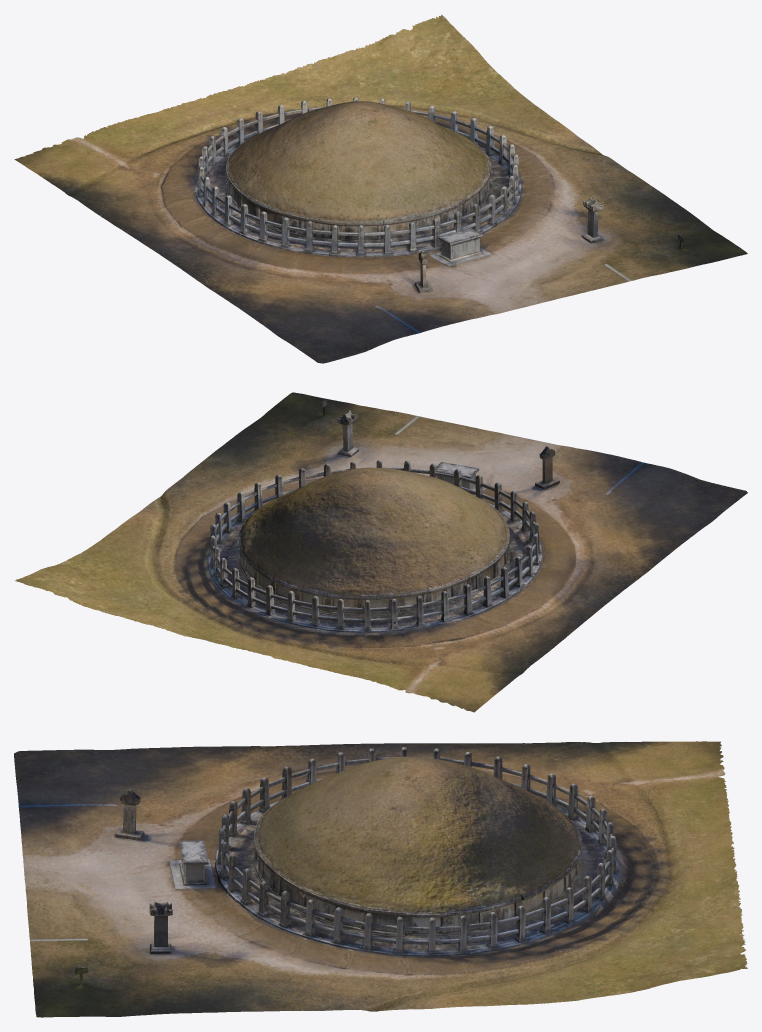
Rendered from kimyusin.glb.
3 renders of one model, top to bottom at view 1: azimuth 30°, elevation 25°; view 2: azimuth 150°, elevation 25°; view 3: azimuth 270°, elevation 25°, orthographic. The views are drawn at different scales.
Parts seen in each view (by area): view 1: Object_2, Object_3; view 2: Object_2, Object_3; view 3: Object_2, Object_3.
Part boxes in pixels (x1,y1,x2,y2): Object_2: (14,14,747,363); Object_3: (31,16,734,359); Object_2: (15,392,747,712); Object_3: (16,397,736,703); Object_2: (14,741,747,1017); Object_3: (14,741,745,1016).
Size of the model in its own units: 31.65 by 5.88 by 35.88.
1 material, 1 textured.
